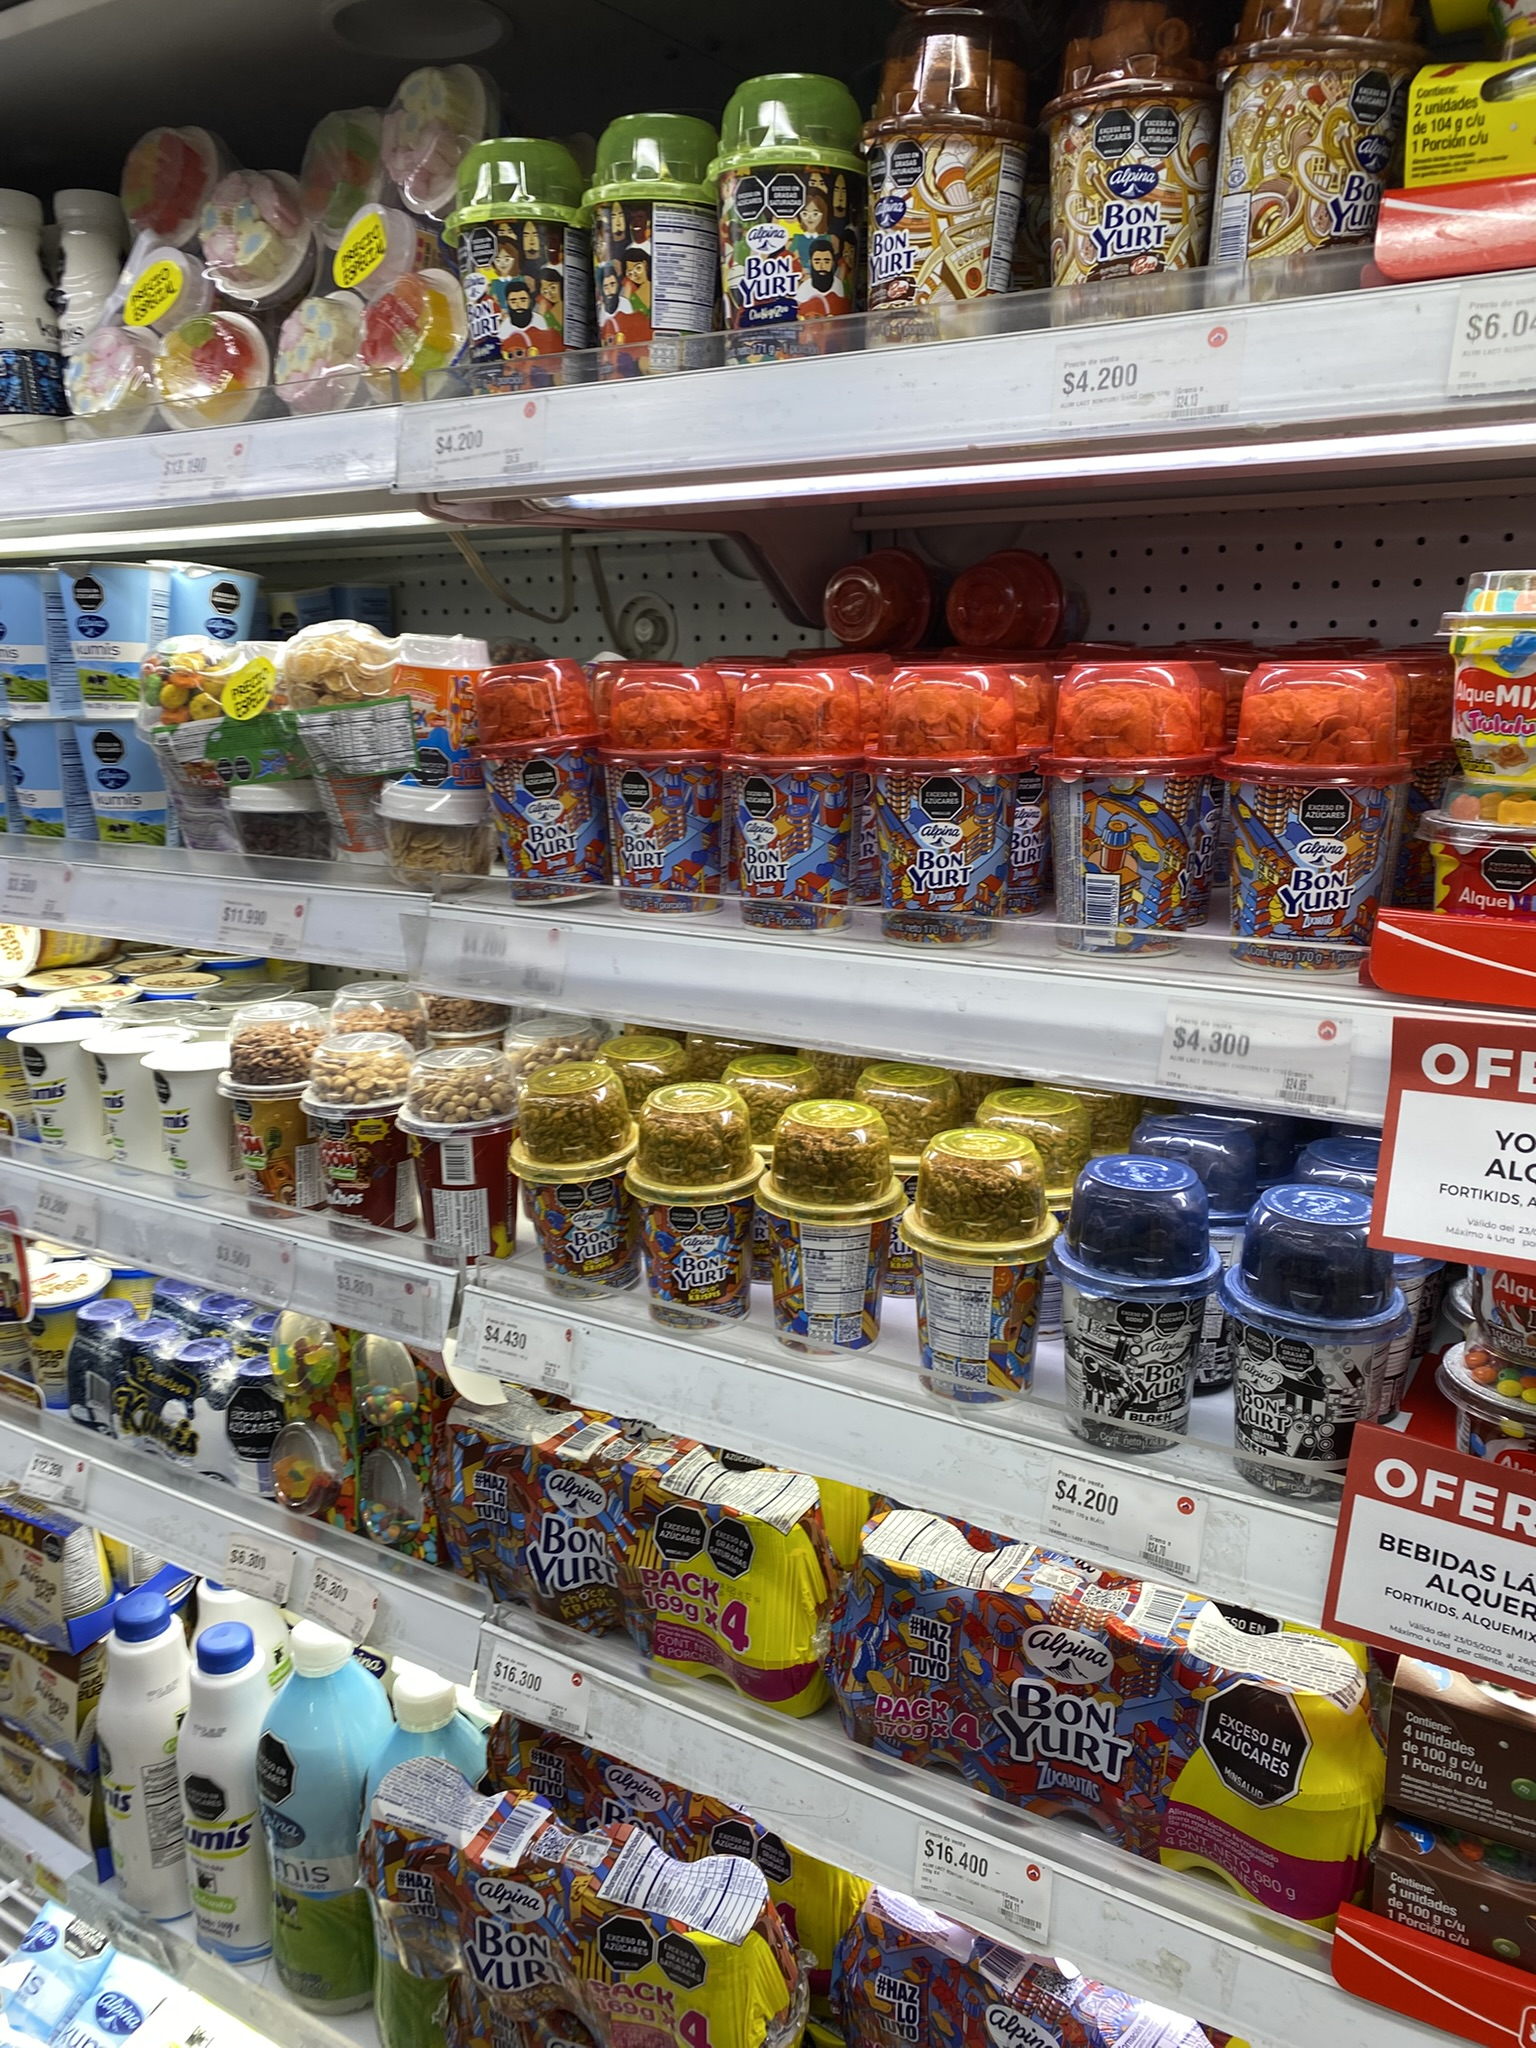BonYurt: (1226, 655, 1431, 951), (1052, 651, 1229, 948), (878, 655, 1033, 932), (742, 660, 874, 930), (607, 668, 744, 919), (478, 650, 610, 901)
